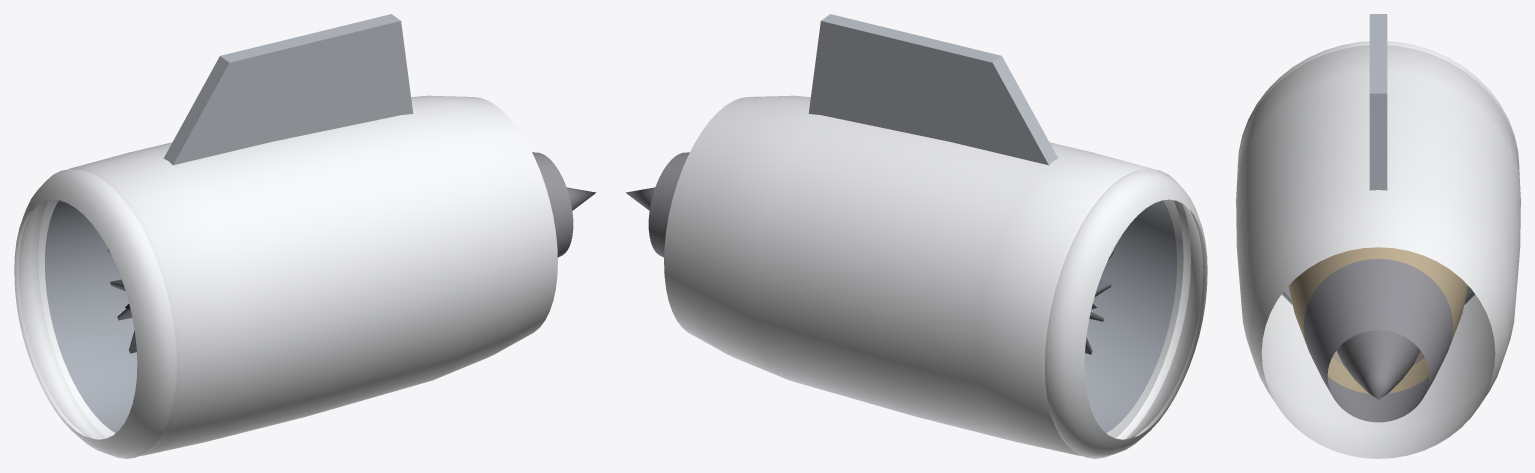
The model's file is engine-v2500.glb.
The picture shows the model from 3 angles, left to right: view 1: azimuth 30°, elevation 25°; view 2: azimuth 150°, elevation 25°; view 3: azimuth 270°, elevation 25°; orthographic projection. The views are drawn at different scales.
Parts seen in each view (by area): view 1: 01_Nacelle_Cowl, 10_Pylon, 01b_Inlet_Lip, 02_Fan_Case, 08_Exhaust_Nozzle; view 2: 01_Nacelle_Cowl, 10_Pylon, 01b_Inlet_Lip, 02_Fan_Case, 08_Exhaust_Nozzle; view 3: 01_Nacelle_Cowl, 08_Exhaust_Nozzle, 05_Core_Casing, 09_Exhaust_Plug, 10_Pylon, 01b_Inlet_Lip.
Boxes of the visible parts, box(x1,y1,x2,y2) form: 01_Nacelle_Cowl: box(18, 95, 557, 456); 10_Pylon: box(163, 14, 413, 165); 01b_Inlet_Lip: box(14, 169, 177, 458); 02_Fan_Case: box(44, 200, 137, 432); 08_Exhaust_Nozzle: box(532, 152, 573, 257); 01_Nacelle_Cowl: box(664, 95, 1203, 456); 10_Pylon: box(808, 14, 1058, 165); 01b_Inlet_Lip: box(1044, 169, 1207, 458); 02_Fan_Case: box(1084, 200, 1177, 432); 08_Exhaust_Nozzle: box(648, 152, 689, 257); 01_Nacelle_Cowl: box(1236, 45, 1520, 458); 08_Exhaust_Nozzle: box(1303, 258, 1453, 422); 05_Core_Casing: box(1288, 247, 1468, 393); 09_Exhaust_Plug: box(1336, 330, 1420, 399); 10_Pylon: box(1369, 14, 1387, 190); 01b_Inlet_Lip: box(1237, 41, 1519, 167).
Bounding box in the file's own units: 3.82 × 2.52 × 1.9.
